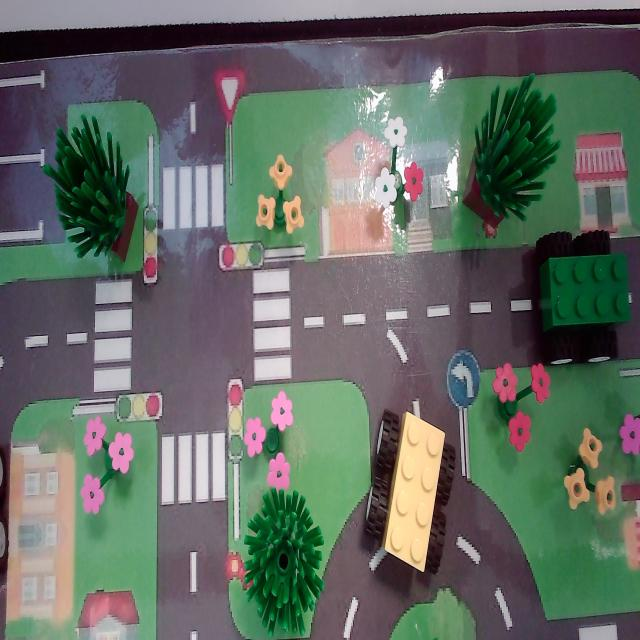Car: (356, 399, 461, 580), (527, 222, 640, 377)
Flower: (487, 357, 558, 468), (75, 405, 137, 526), (366, 113, 432, 222), (239, 391, 299, 499), (562, 418, 622, 522), (254, 154, 309, 245)
Tree: (51, 116, 144, 277), (237, 482, 326, 640)
